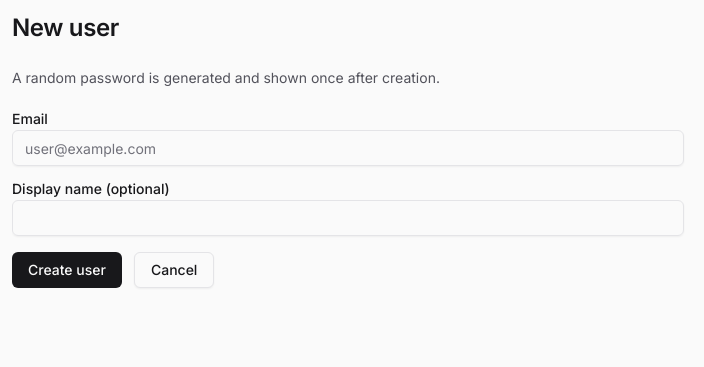
AdminUserNewRoute › shows the generic error message when the failure is not an ApiError
Type "newbie@example.com" into the field labelled "Email" at coordinates (348, 148), box [12, 130, 684, 166]
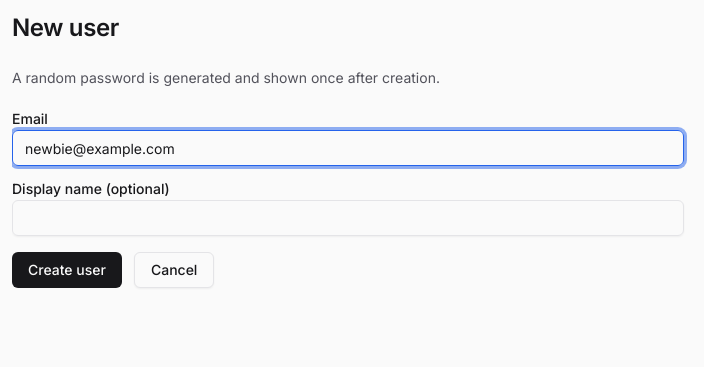
Click the button "Create user" at coordinates (67, 270), box [12, 252, 122, 288]
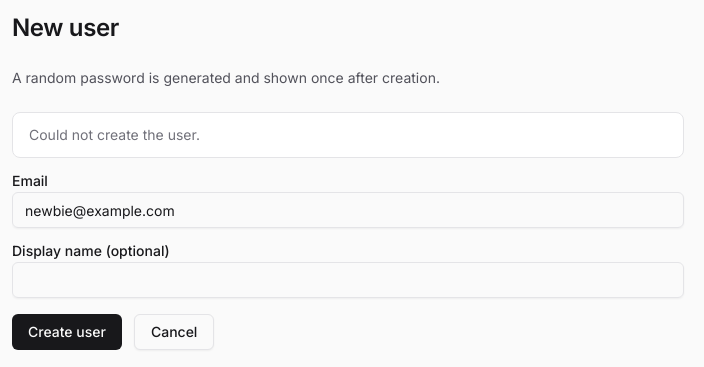
Result: the text "Could not create the user." is shown at [29, 126, 200, 143]
